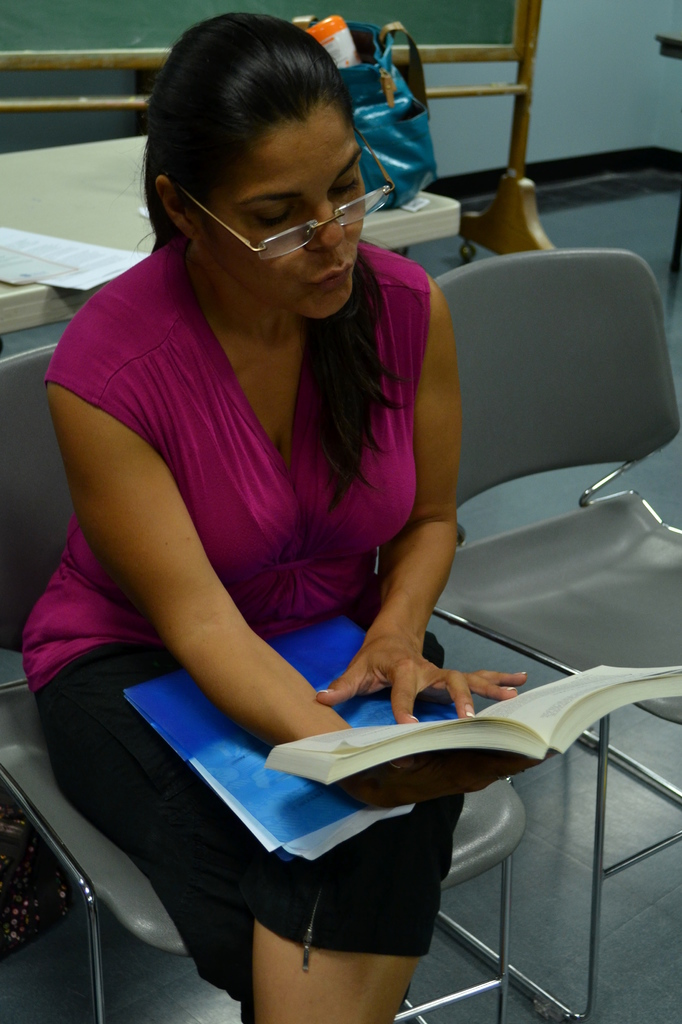Human_hand: (314, 643, 528, 723), (336, 748, 557, 812)
